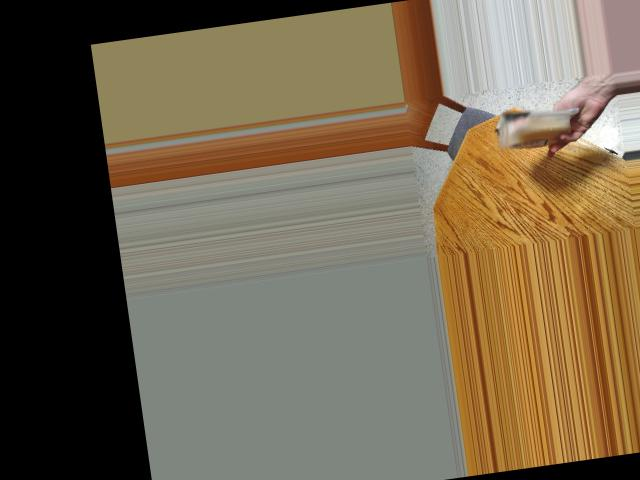cheese: (494, 96, 576, 161)
